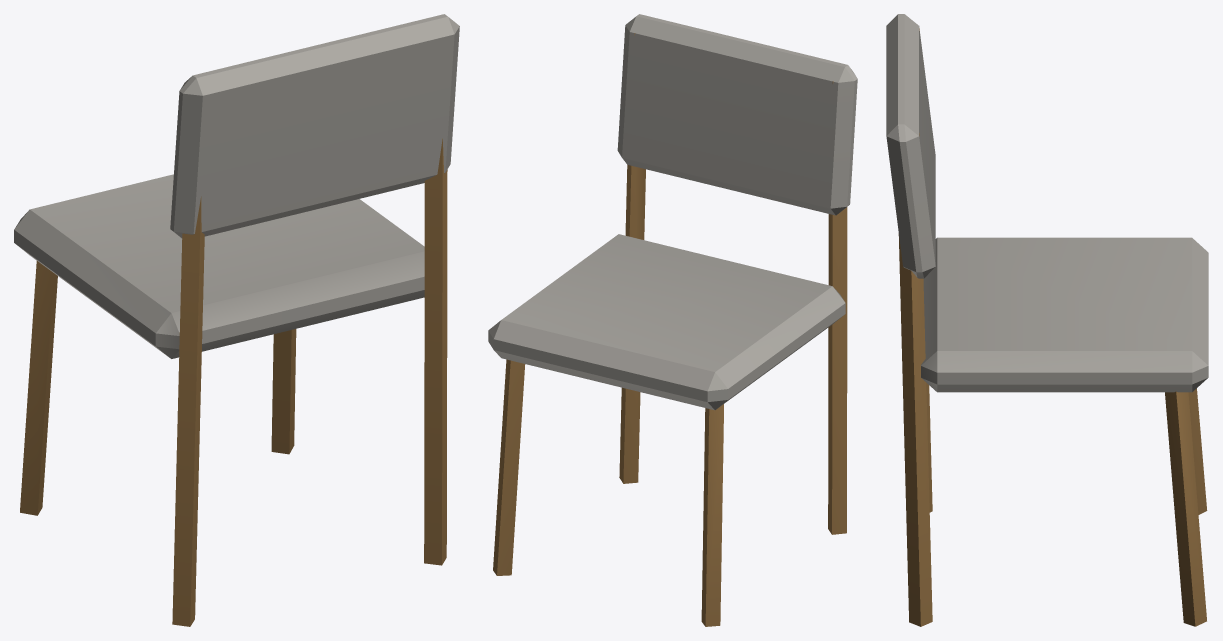
File: chair_visitor_01.glb
The picture shows the model from 3 angles, left to right: view 1: azimuth 30°, elevation 25°; view 2: azimuth 150°, elevation 25°; view 3: azimuth 270°, elevation 25°; orthographic projection. The views are drawn at different scales.
Parts seen in each view (by area): view 1: chair_visitor_01_mesh; view 2: chair_visitor_01_mesh; view 3: chair_visitor_01_mesh.
Part boxes in pixels (x1,y1,x2,y2): chair_visitor_01_mesh: (14,14,459,626); chair_visitor_01_mesh: (488,14,857,626); chair_visitor_01_mesh: (886,14,1208,626).
Size of the model in its own units: 0.46 by 0.8413 by 0.4927.
1 material, 1 textured.
